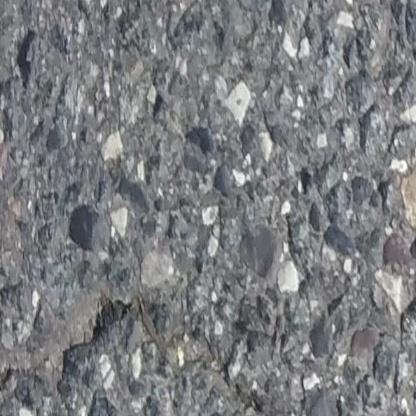Cracks: (0, 285, 293, 416)
